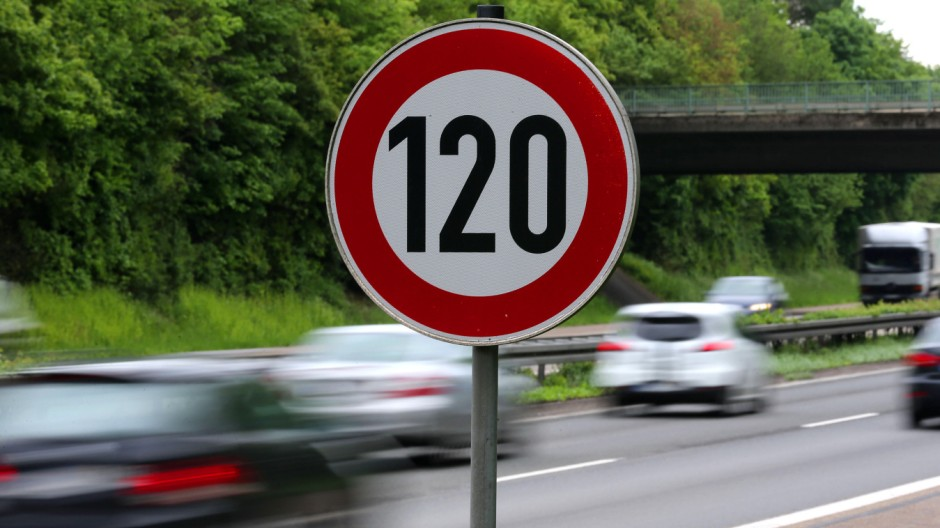Speed_limit_120km: (318, 17, 644, 348)
